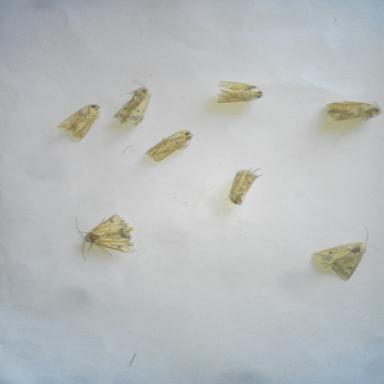abw: (308, 221, 382, 284), (62, 211, 145, 265), (107, 76, 156, 129), (49, 98, 103, 142), (219, 163, 269, 209), (208, 74, 267, 111), (143, 127, 199, 163), (317, 93, 382, 124)
